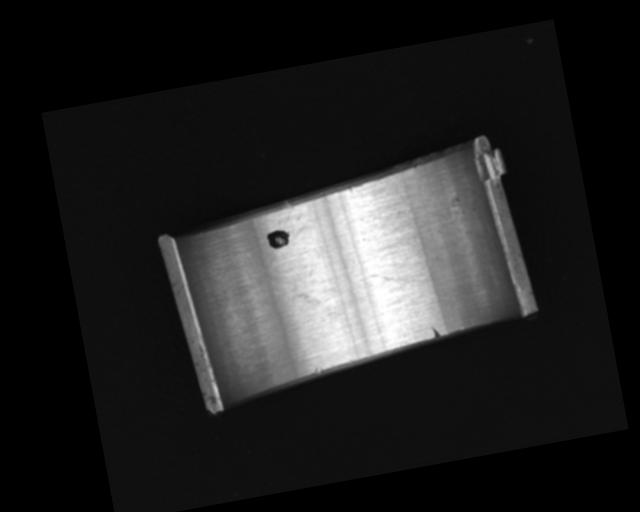blot: (267, 263, 323, 314), (264, 227, 292, 251)
bruise: (430, 324, 441, 339), (313, 366, 322, 375)
